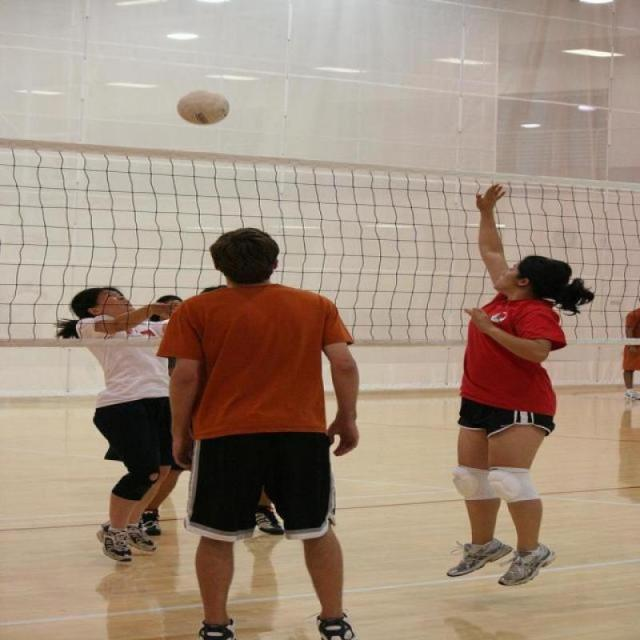volleyball: (174, 91, 230, 127)
